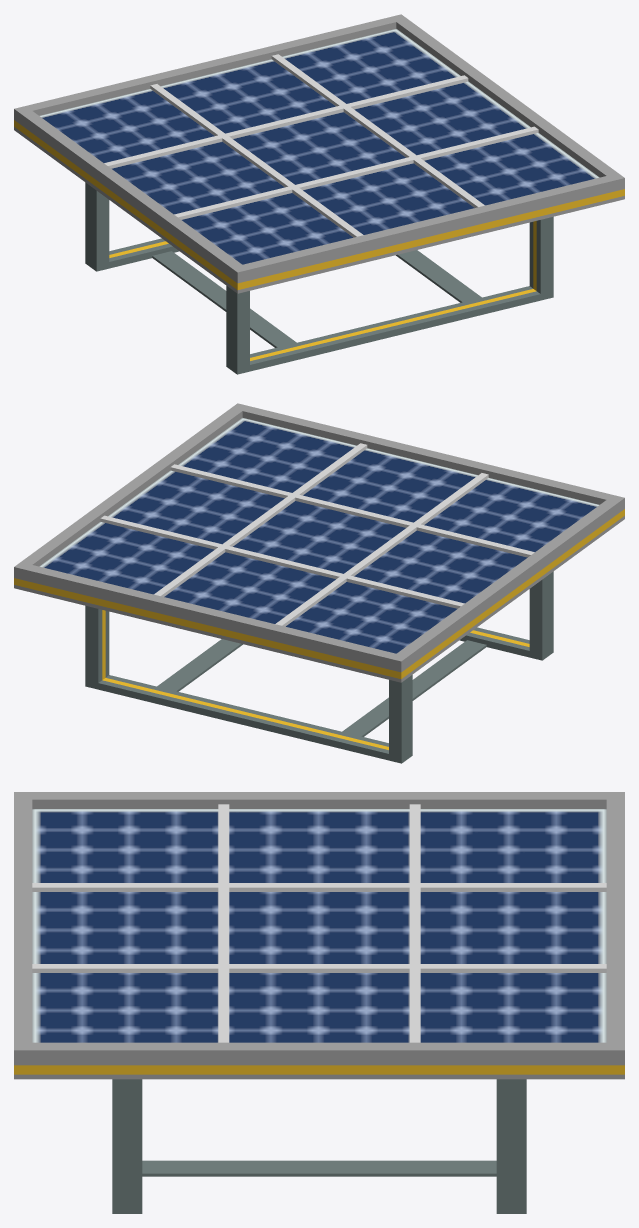
Rendered from SolarPanel.fbx.
The picture shows the model from 3 angles, top to bottom: view 1: azimuth 30°, elevation 25°; view 2: azimuth 150°, elevation 25°; view 3: azimuth 270°, elevation 25°; orthographic projection. The views are drawn at different scales.
Visible parts, largest first — view 1: SolarPanel; view 2: SolarPanel; view 3: SolarPanel.
Part boxes in pixels (x1,y1,x2,y2): SolarPanel: (14,14,624,374); SolarPanel: (14,403,624,763); SolarPanel: (14,792,624,1213).
Size of the model in its own units: 89.36 by 30.23 by 89.36.
